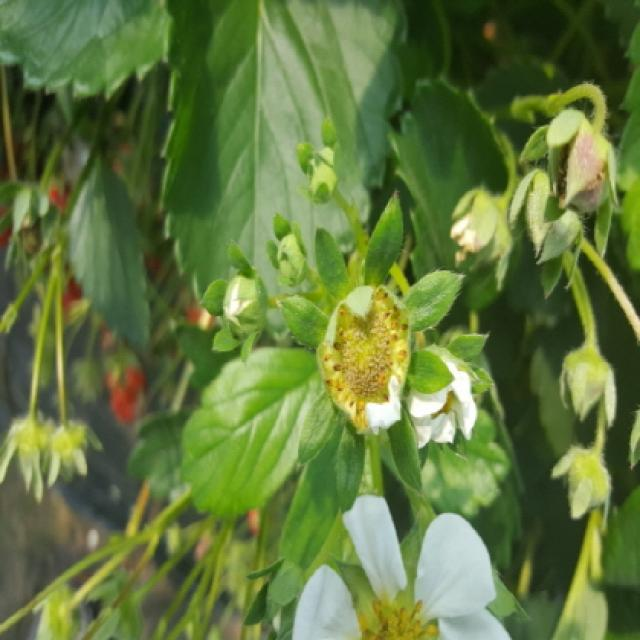Blossom Blight: (319, 286, 412, 433)
